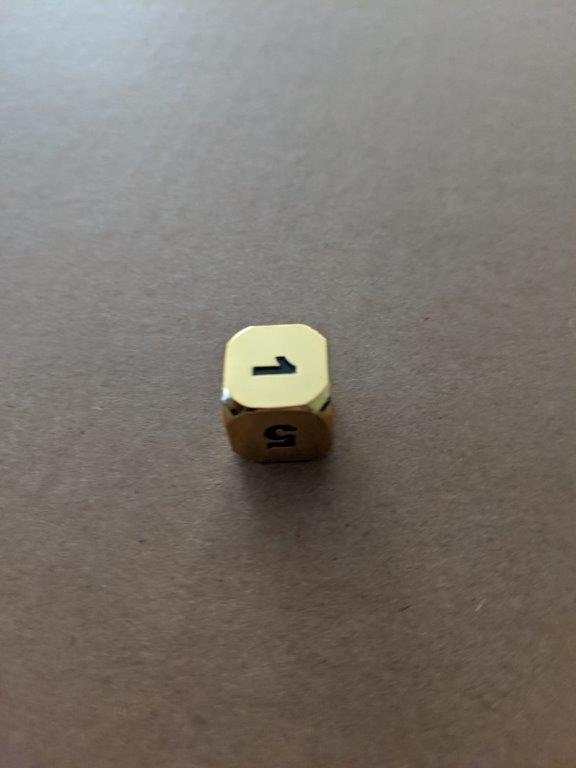d6-1: (219, 324, 334, 461)
